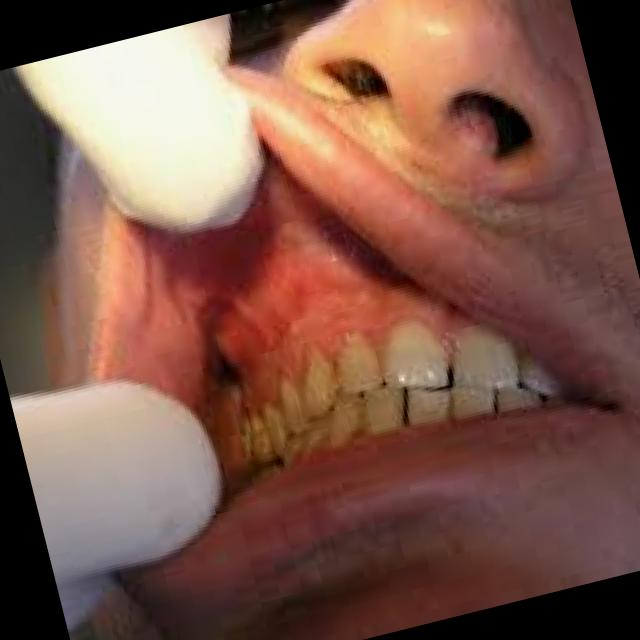abscess: (194, 302, 300, 392)
